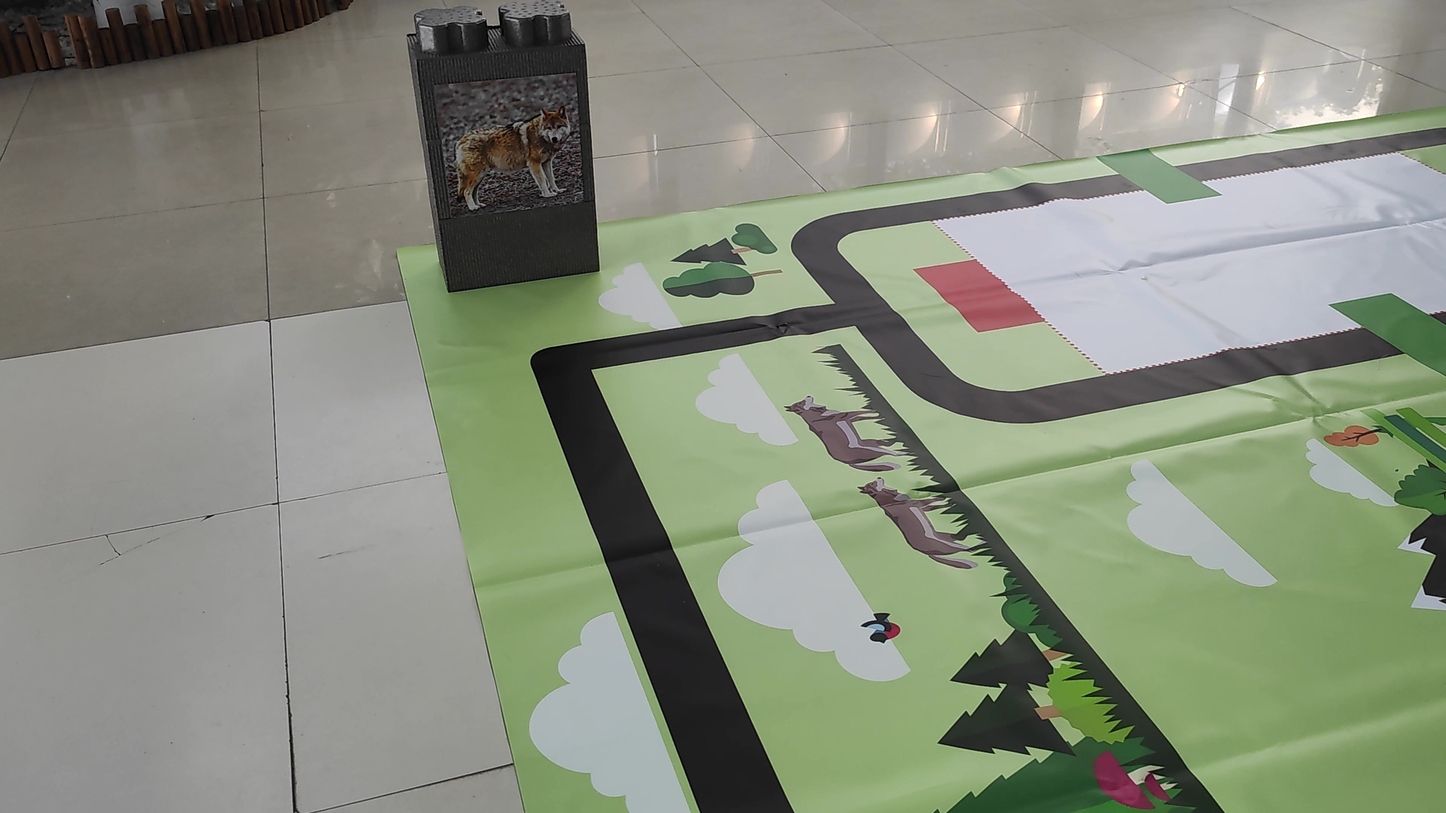wolf: (447, 88, 595, 218)
